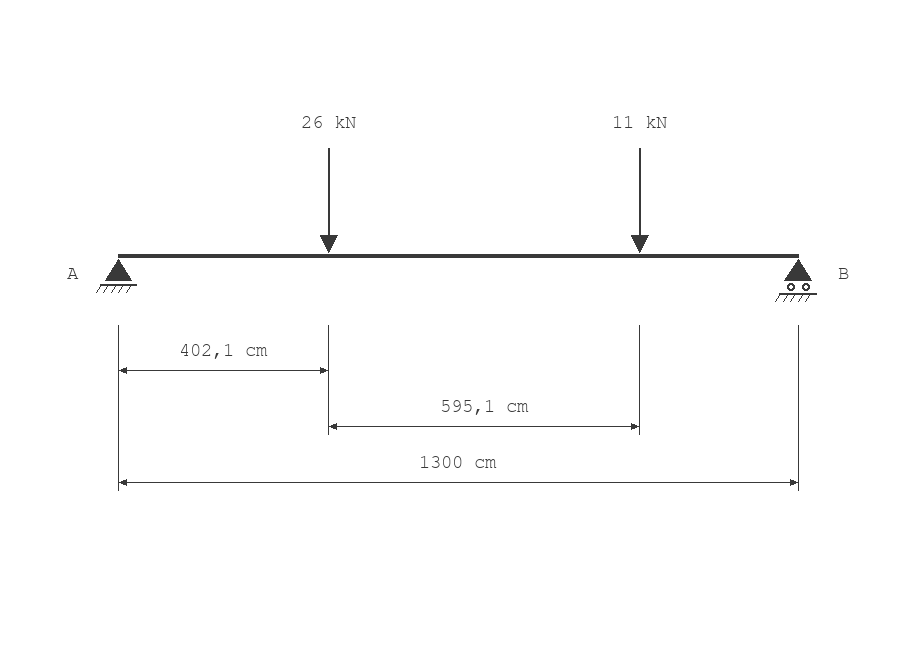pin_support: (96, 259, 137, 293)
point_load: (320, 148, 338, 253), (631, 148, 649, 253)
roller_support: (775, 259, 817, 302)
